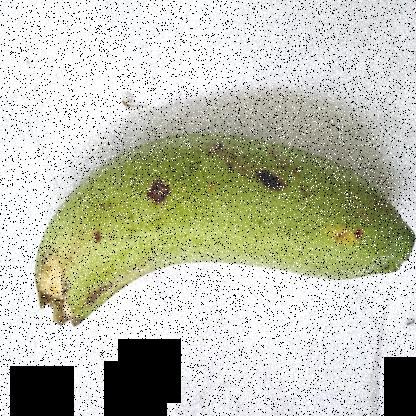rotten: (240, 152, 314, 227), (128, 162, 182, 224)
unripe: (36, 123, 416, 355)
